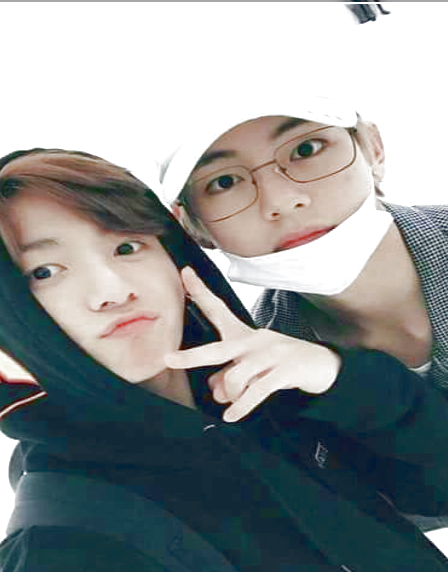mask_weared_incorrect: (150, 33, 383, 299)
